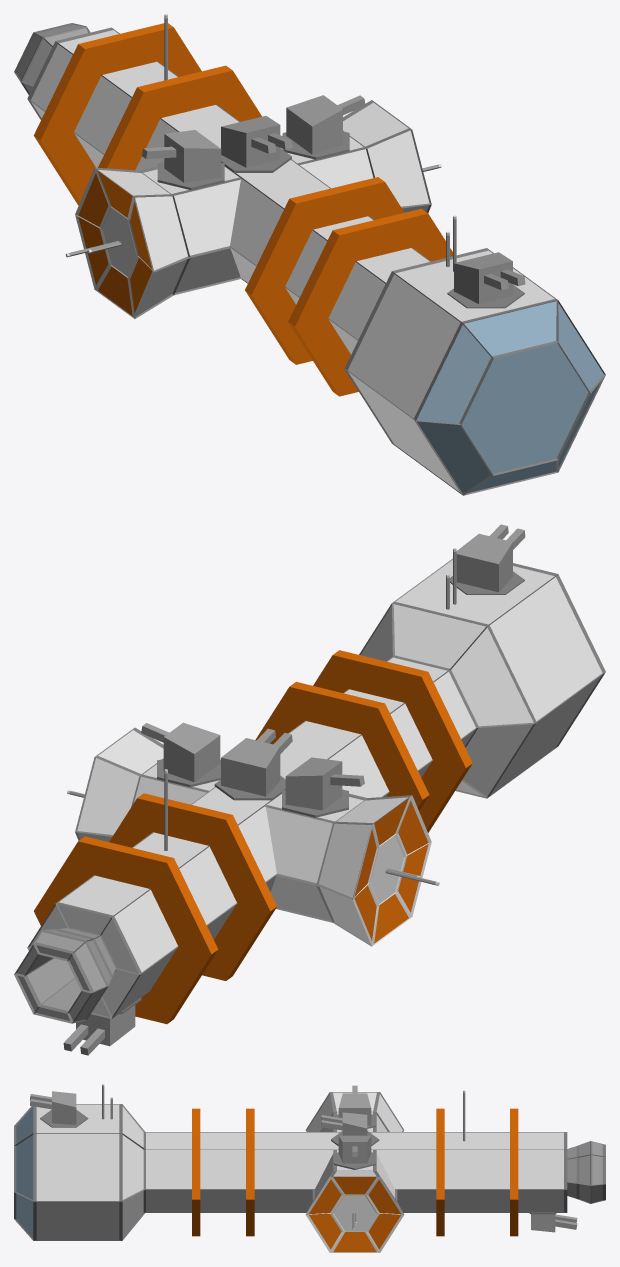
The model's file is low tier frigate.fbx.
3 renders of one model, top to bottom at view 1: azimuth 30°, elevation 25°; view 2: azimuth 150°, elevation 25°; view 3: azimuth 270°, elevation 25°, orthographic. The views are drawn at different scales.
Visible parts, largest first — view 1: Frigate; view 2: Frigate; view 3: Frigate.
Boxes of the visible parts, bbox=[...] form: Frigate: bbox=[14, 14, 605, 495]; Frigate: bbox=[14, 524, 605, 1055]; Frigate: bbox=[14, 1084, 605, 1252].
Bounding box in the file's own units: 668 × 392 × 1471.
